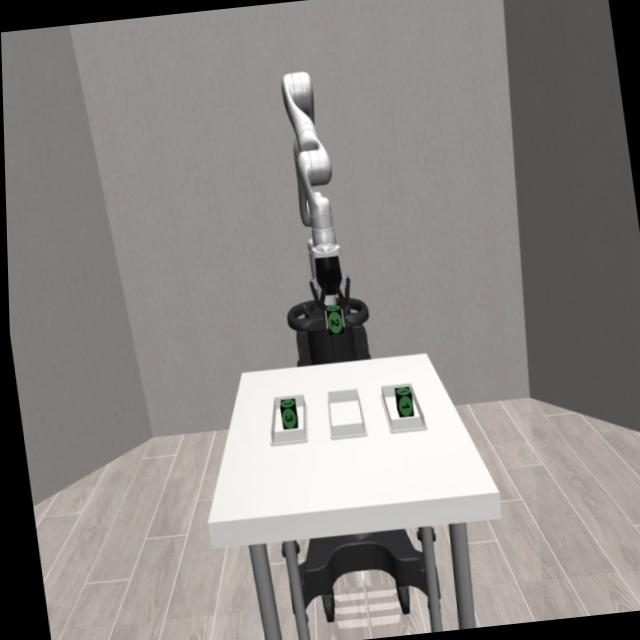cube1: (391, 382, 413, 419)
cube2: (323, 303, 343, 337)
cube3: (276, 396, 295, 428)
